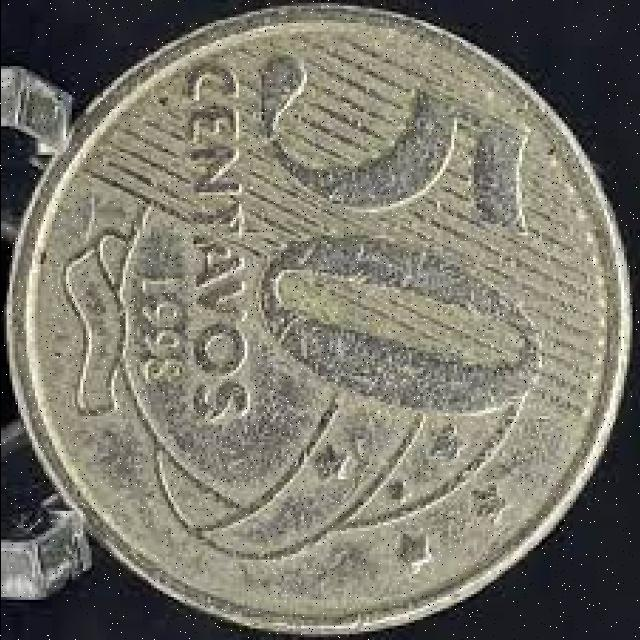50 cent: (40, 7, 632, 627)
